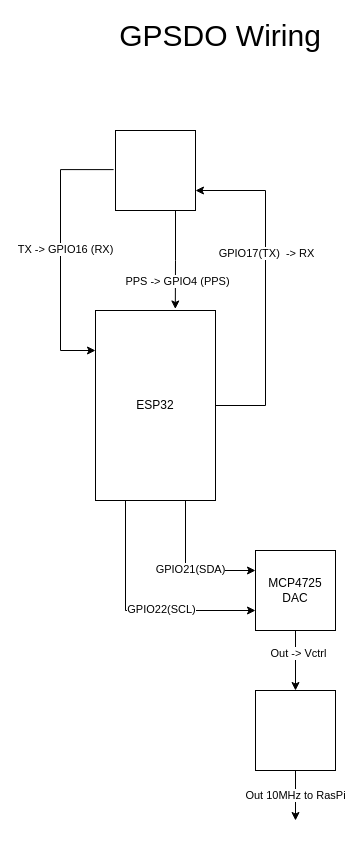
This 362x846 diagram has some shape labels left out. Here are the shapes that lost their labels. From the top down, the centre of each, then its label:
At point 155,170: "GPS".
At point 295,730: "OCXO".
